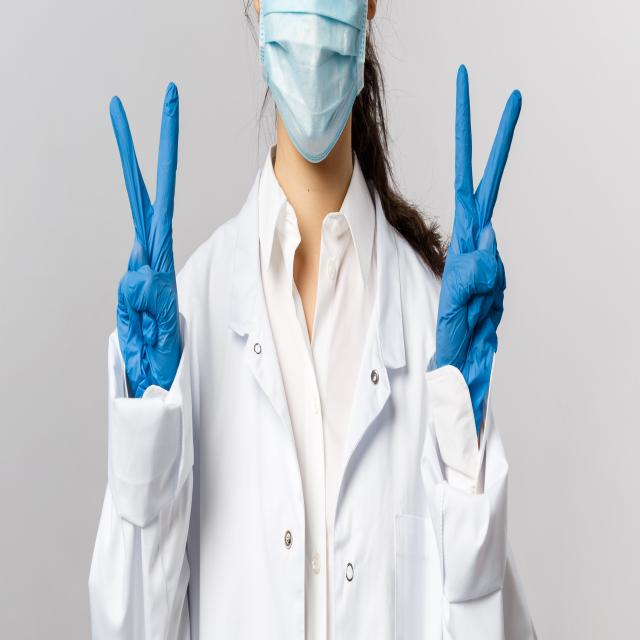Gloves: (422, 41, 514, 446), (100, 67, 194, 436)
Mask: (252, 5, 375, 164)
